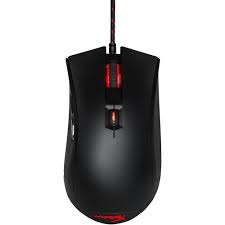mouse: (58, 42, 164, 223)
